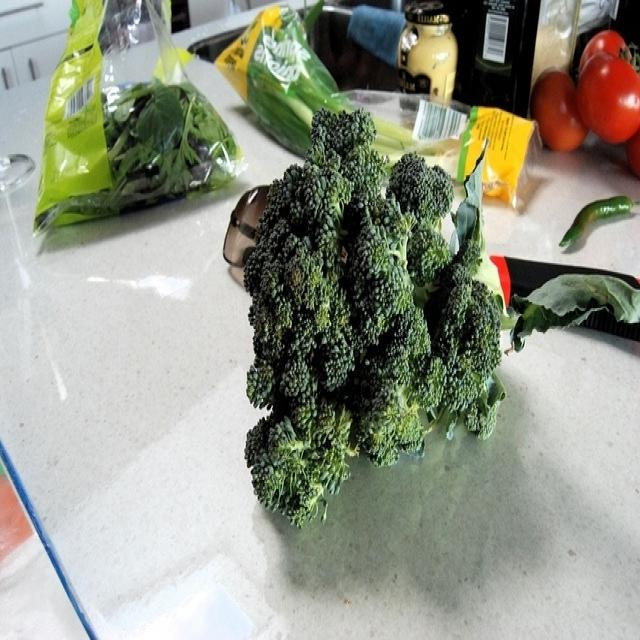broccoli: (246, 101, 501, 521)
